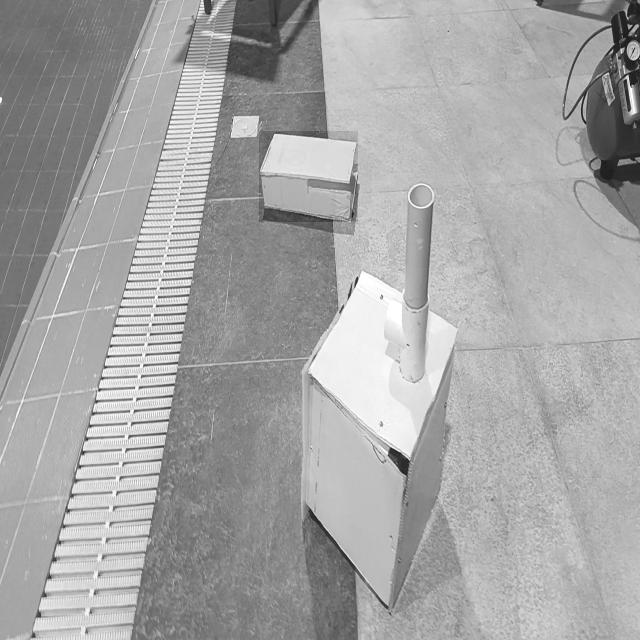Cube: (300, 268, 458, 611)
Cuboid: (259, 131, 358, 222)
